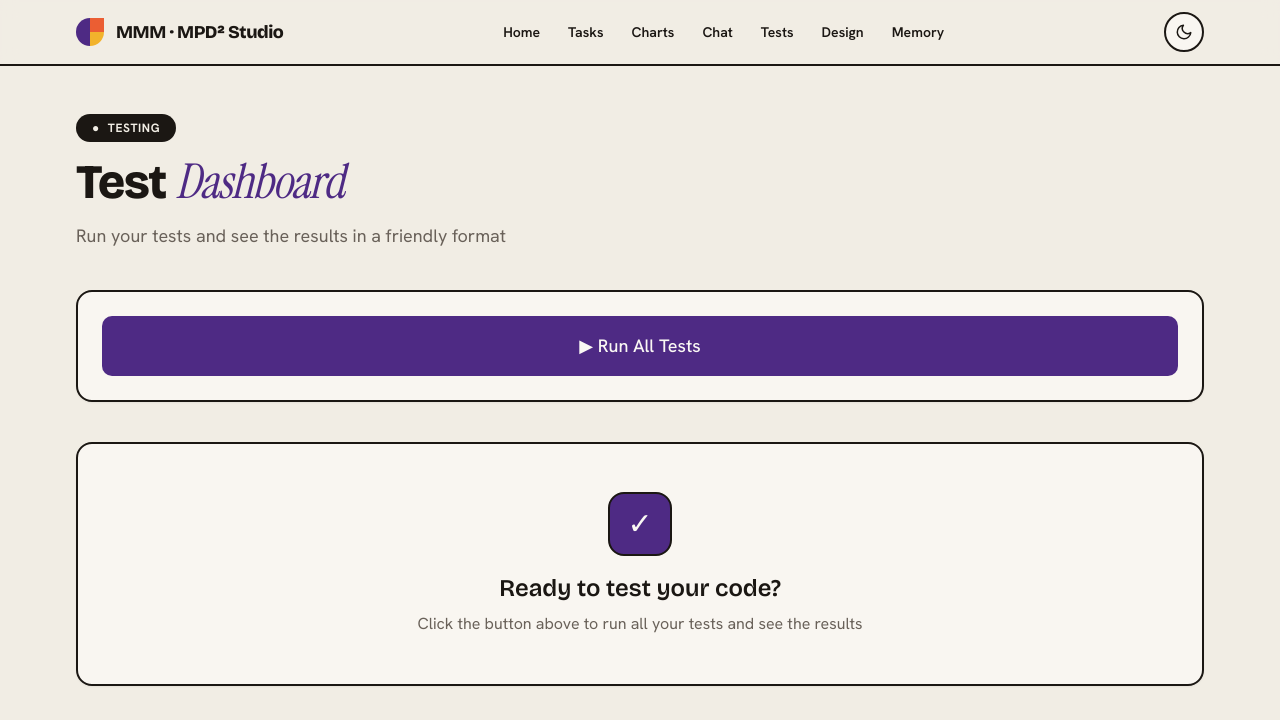
Scenario: TestDashboard › displays failed test results with error messages
Click the button "▶ Run All Tests". click: click(640, 346)
box: [102,316,1178,376]
(page scrolled)
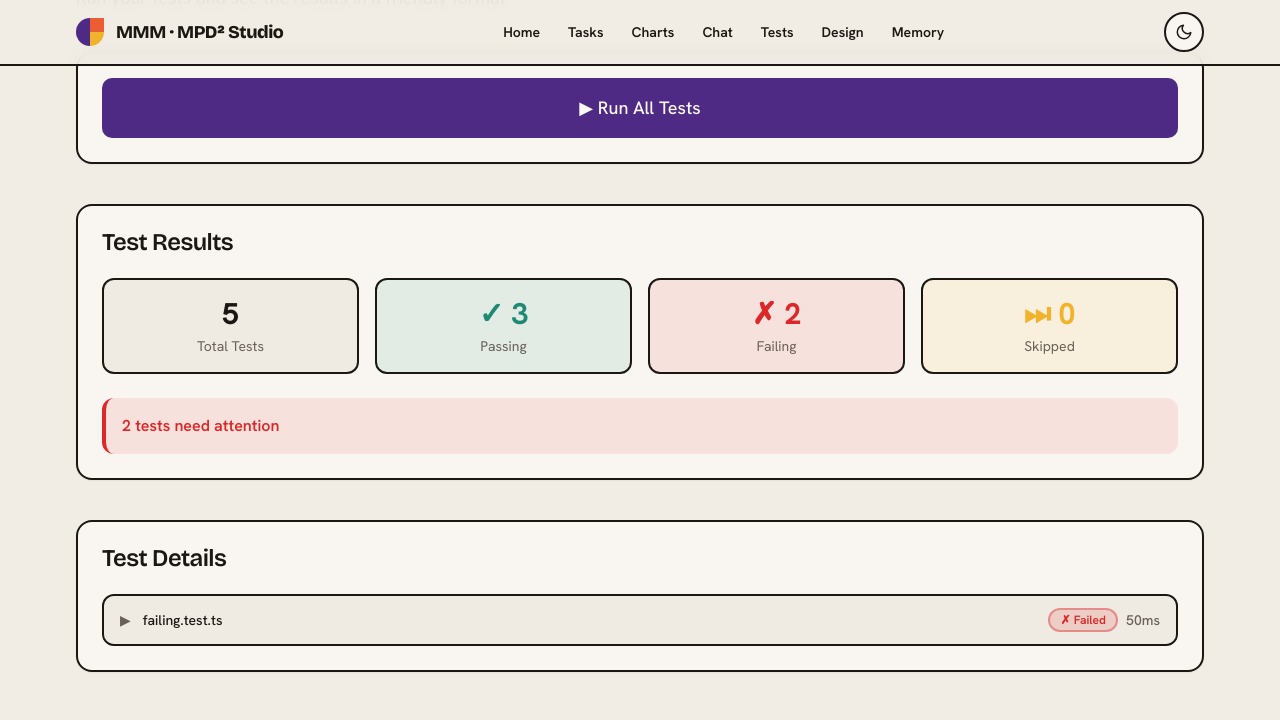
Result: the text "Passing" is shown at [480,337,527,355]
Result: the text "Failing" is shown at [757,337,796,355]
Result: the text "failing.test.ts" is shown at [143,610,222,630]
